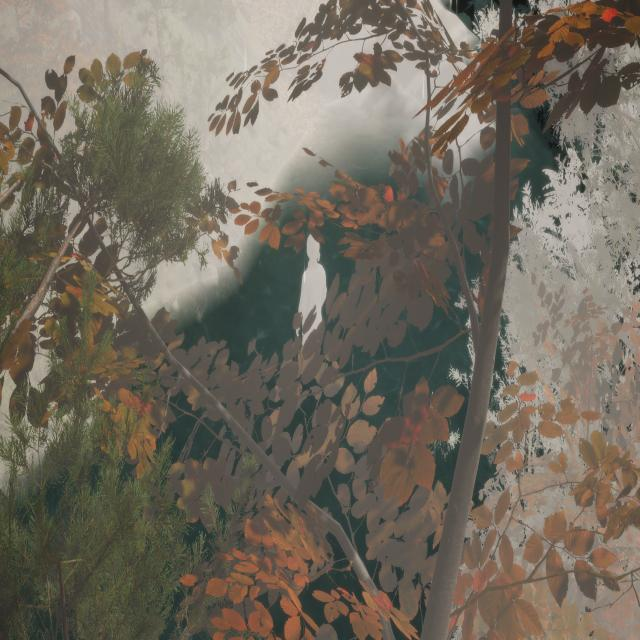Human: (290, 230, 334, 378)
